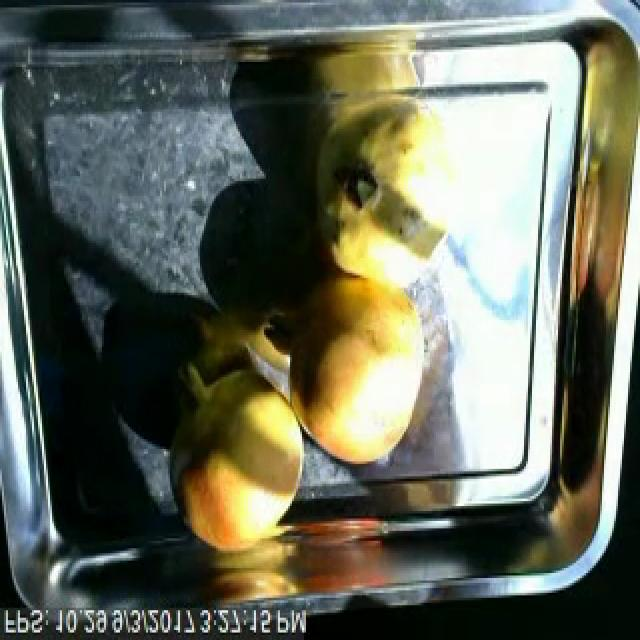fruit: (280, 263, 436, 484), (316, 77, 474, 288), (162, 350, 316, 564)
